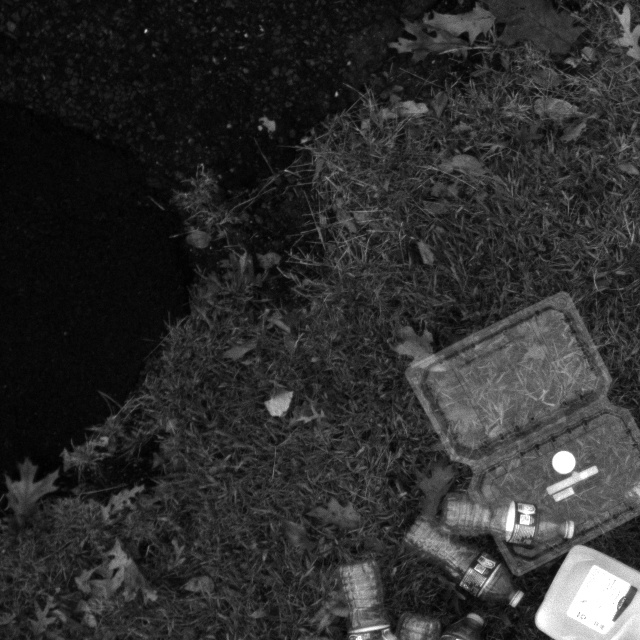bottle: (397, 507, 534, 615), (433, 490, 584, 548), (331, 547, 408, 640)
can: (532, 536, 640, 640)
container: (397, 289, 640, 577)
